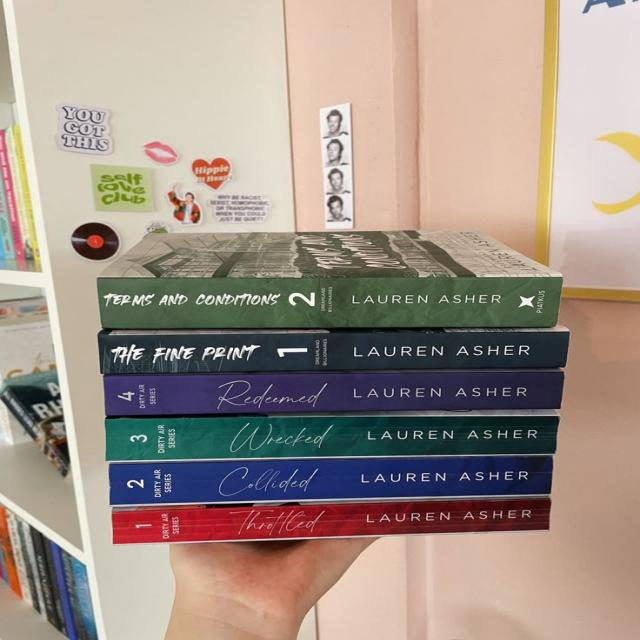book: (99, 278, 556, 328), (111, 458, 552, 506), (97, 332, 571, 374), (108, 417, 559, 461), (102, 372, 564, 413), (111, 501, 550, 543)
